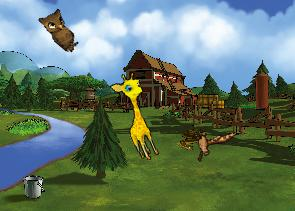eagle: (182, 112, 239, 171)
giraffe: (107, 69, 170, 163)
owl: (34, 3, 88, 54)
